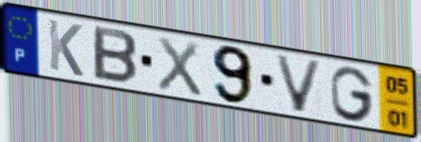9: (209, 43, 257, 106)
B: (91, 23, 139, 87)
G: (328, 64, 376, 123)
K: (45, 16, 85, 79)
V: (271, 52, 326, 115)
X: (155, 33, 205, 100)
